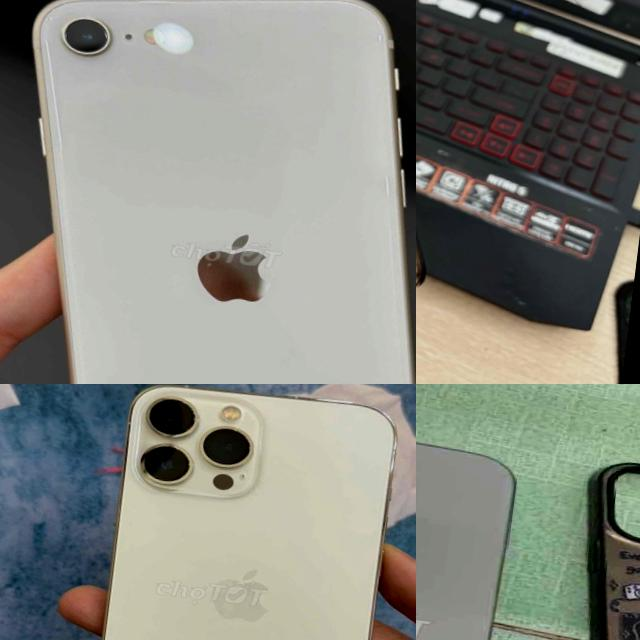gen_12_13: (81, 384, 416, 640)
gen_15: (416, 398, 544, 640)
gen_7_8: (0, 0, 416, 384)
scratch: (25, 40, 77, 156), (41, 4, 64, 25)
screen_defect: (142, 16, 198, 58)
